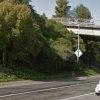Tree: (7, 2, 59, 71)
